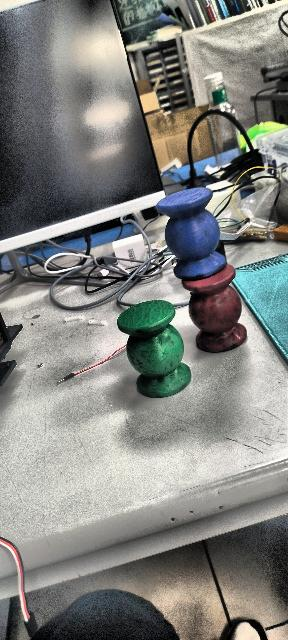blue: (156, 186, 226, 280)
green: (117, 302, 192, 399)
red: (184, 276, 250, 363)
